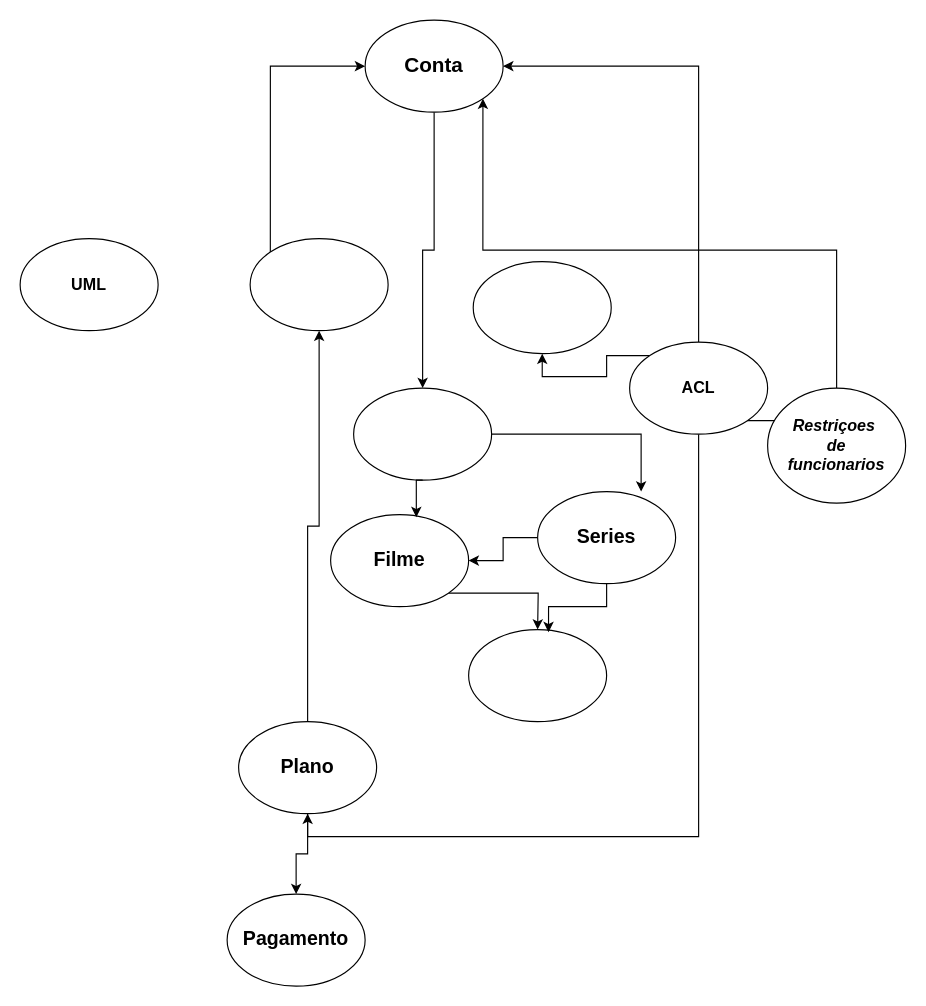
The diagram is 926 pixels wide and 1006 high, and some of its shapes have lost their labels. Each missing label, with the centre of its shape:
"Catalogo" belongs at [422,433].
"Genero" belongs at [537,675].
"Perfil" belongs at [541,307].
"usuario" belongs at [318,284].
